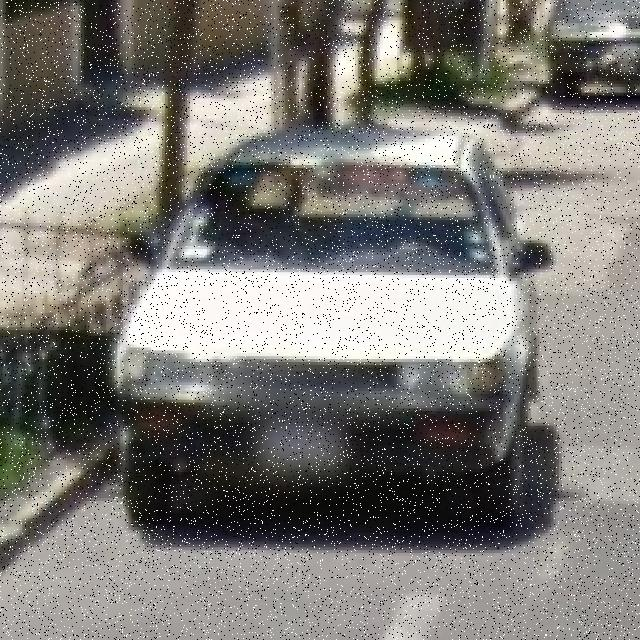cars: (114, 126, 549, 521)
